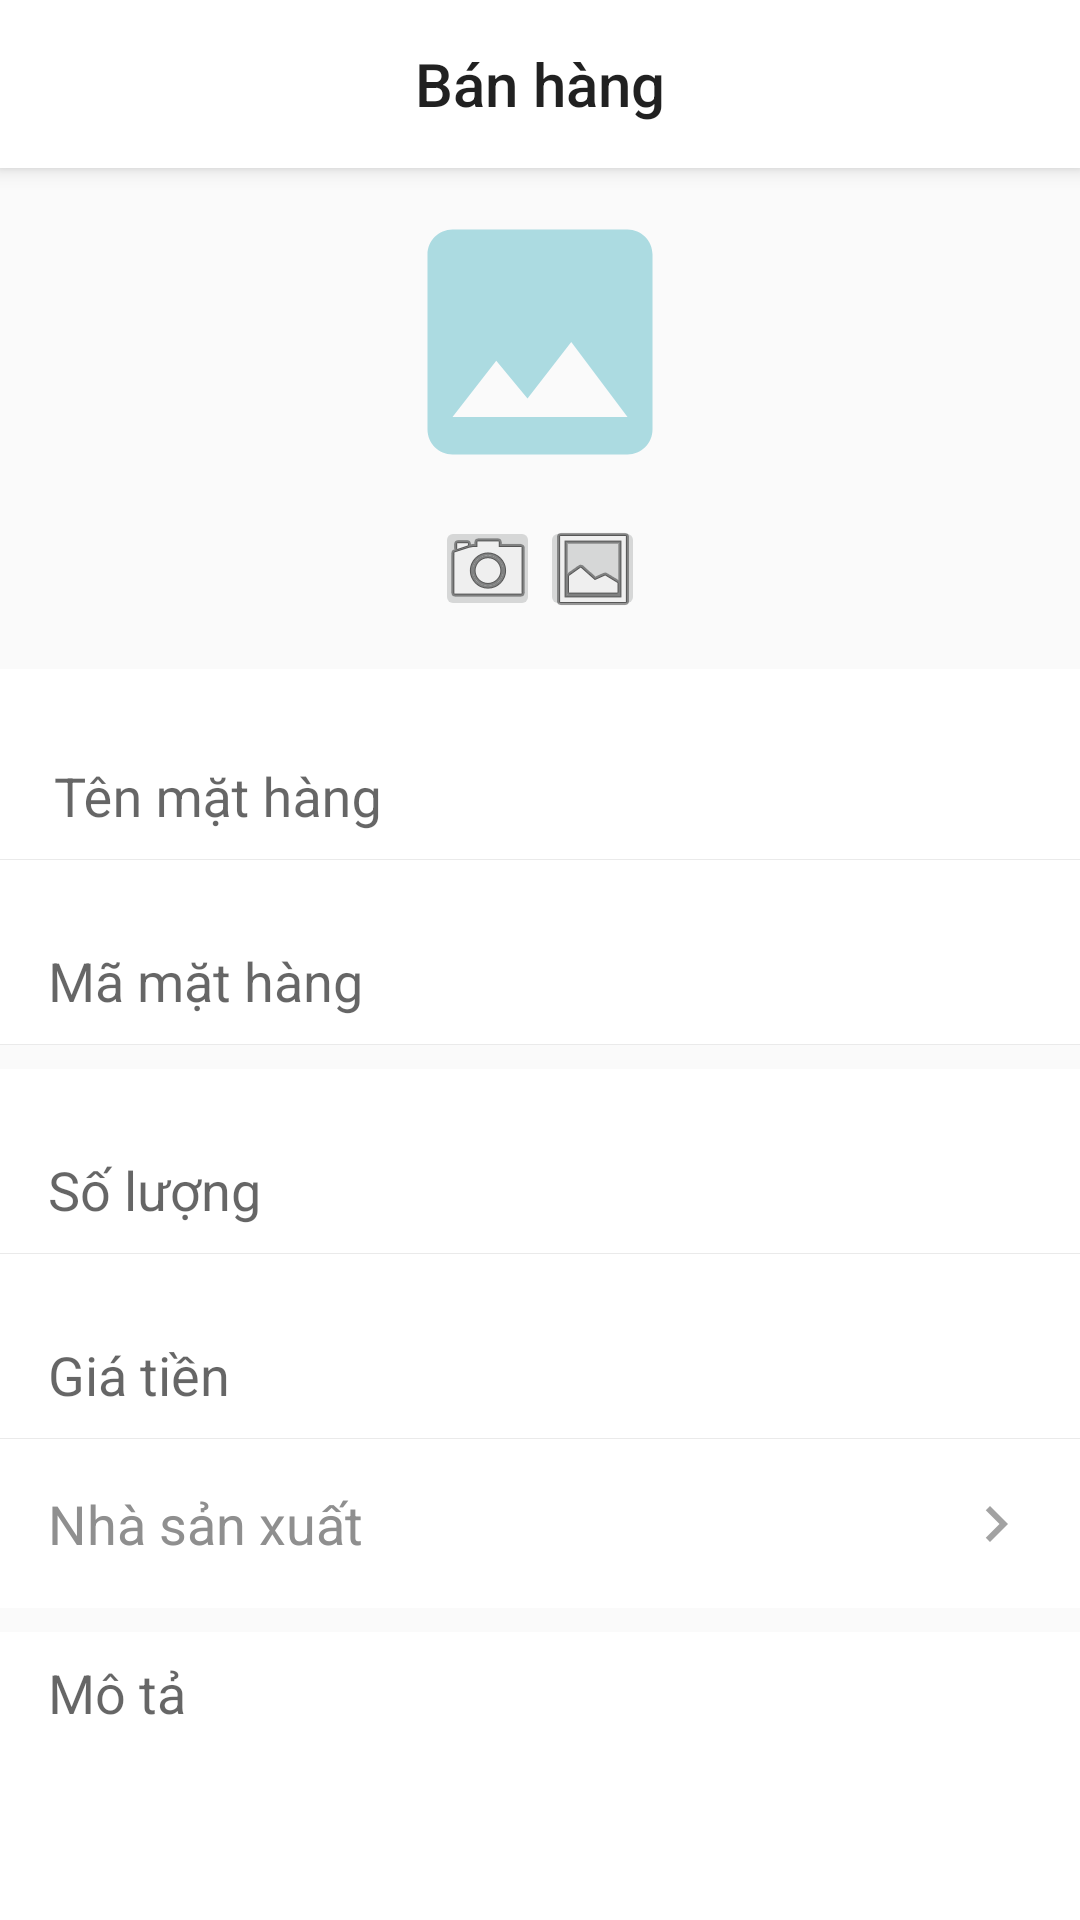

Where icons sit on this 1080px x 1920px app screen, as (x1, y1, x2, y2):
camera: (447, 534, 528, 603)
chevron right: (986, 1506, 1008, 1542)
gallery: (552, 533, 633, 605)
